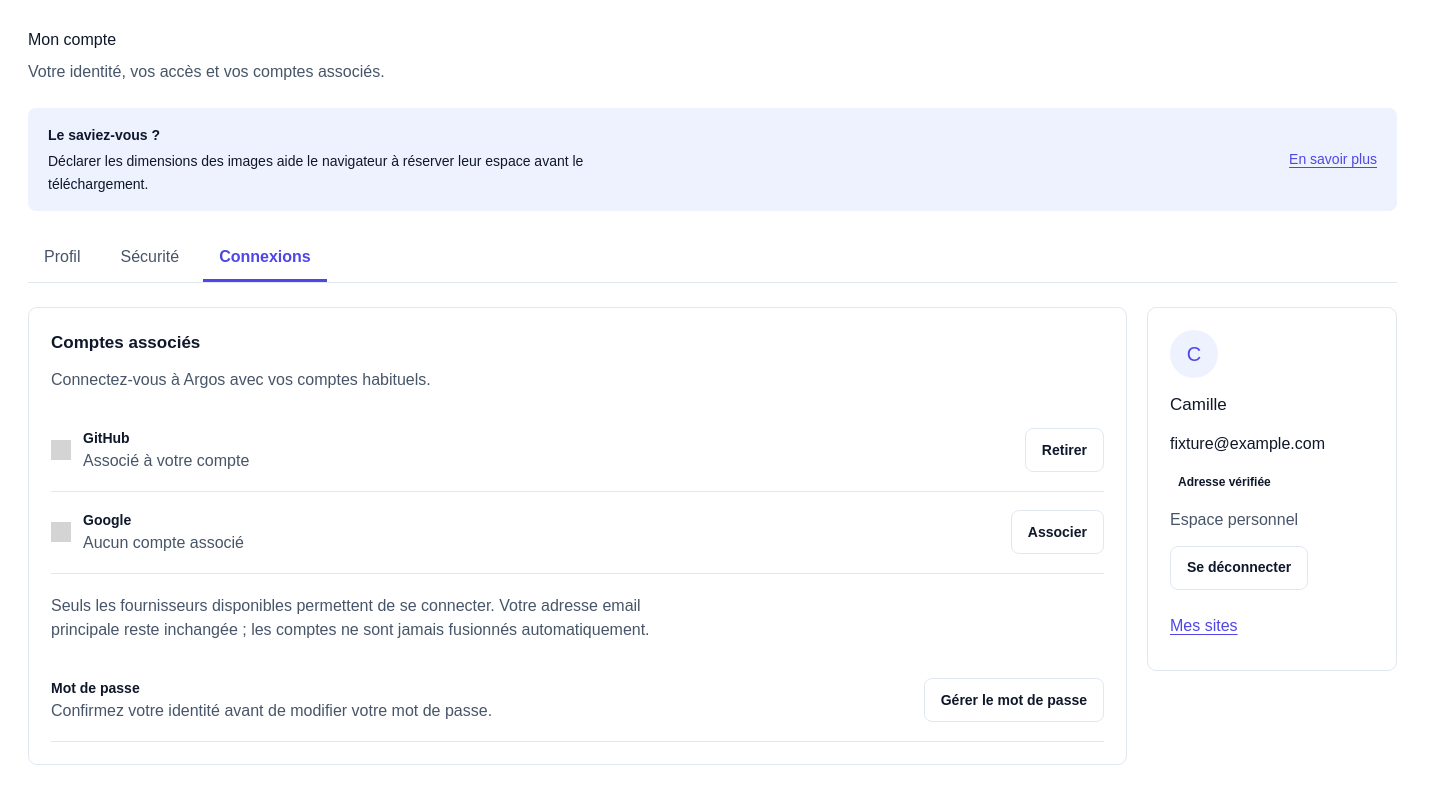
does not start linking when the identity proof is refused
The width and height of the screenshot is (1440, 810).
Click the button with aria-label "Associer Google": (1057, 532) [1011, 510, 1104, 554]
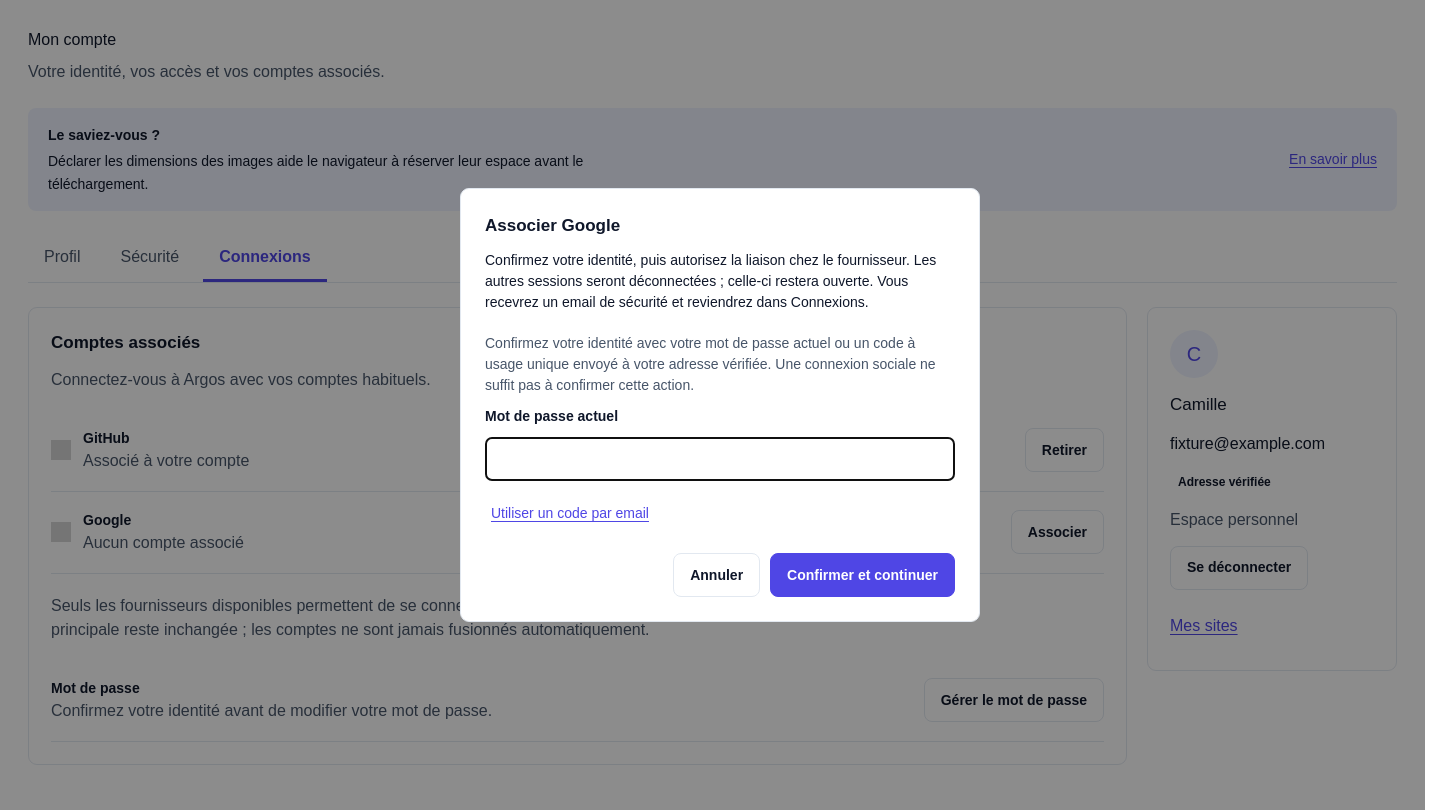
In the password field labelled "Mot de passe actuel": (720, 459) [485, 437, 955, 481], type "synthetic password"
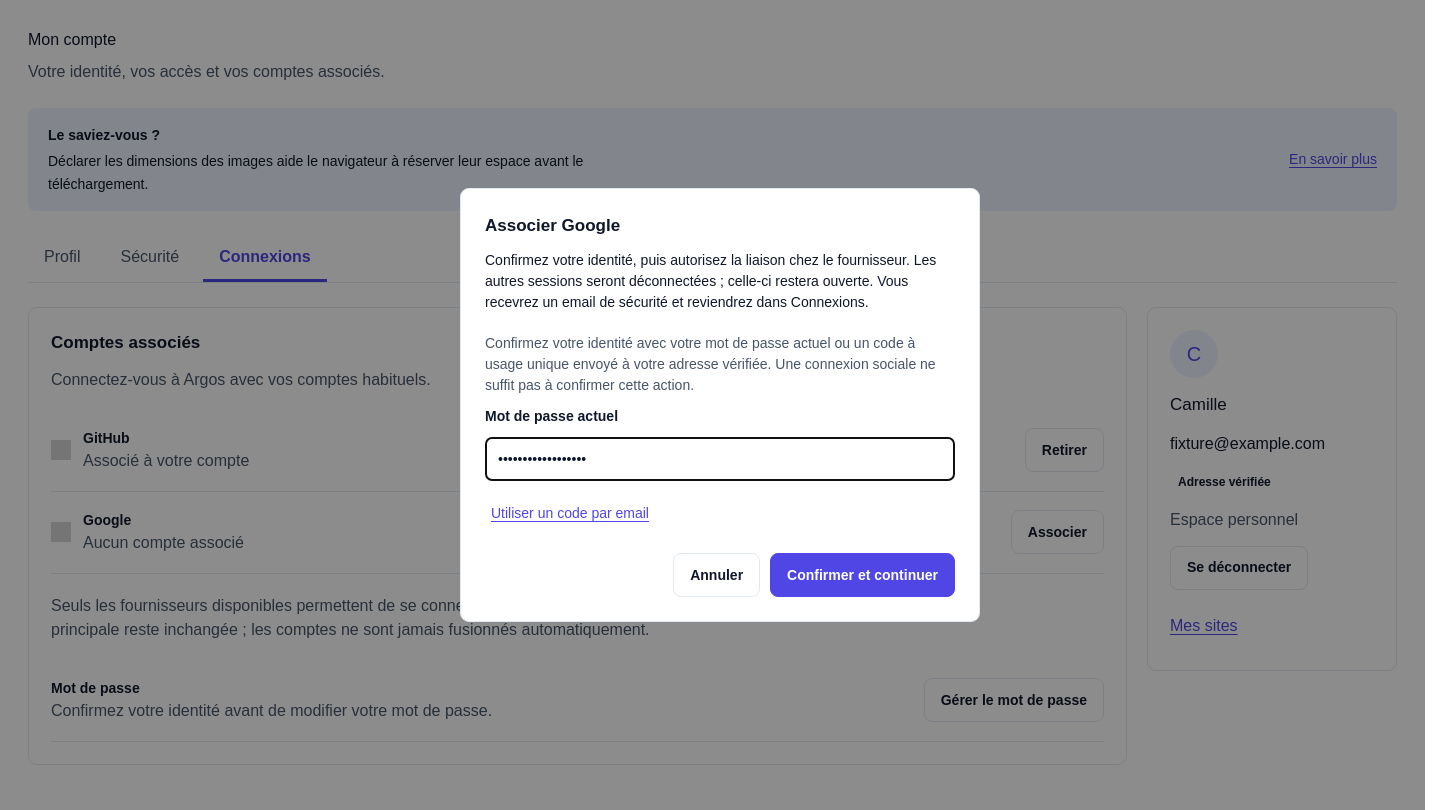
Submit the form named "Confirmer et continuer", box [485, 333, 955, 597]
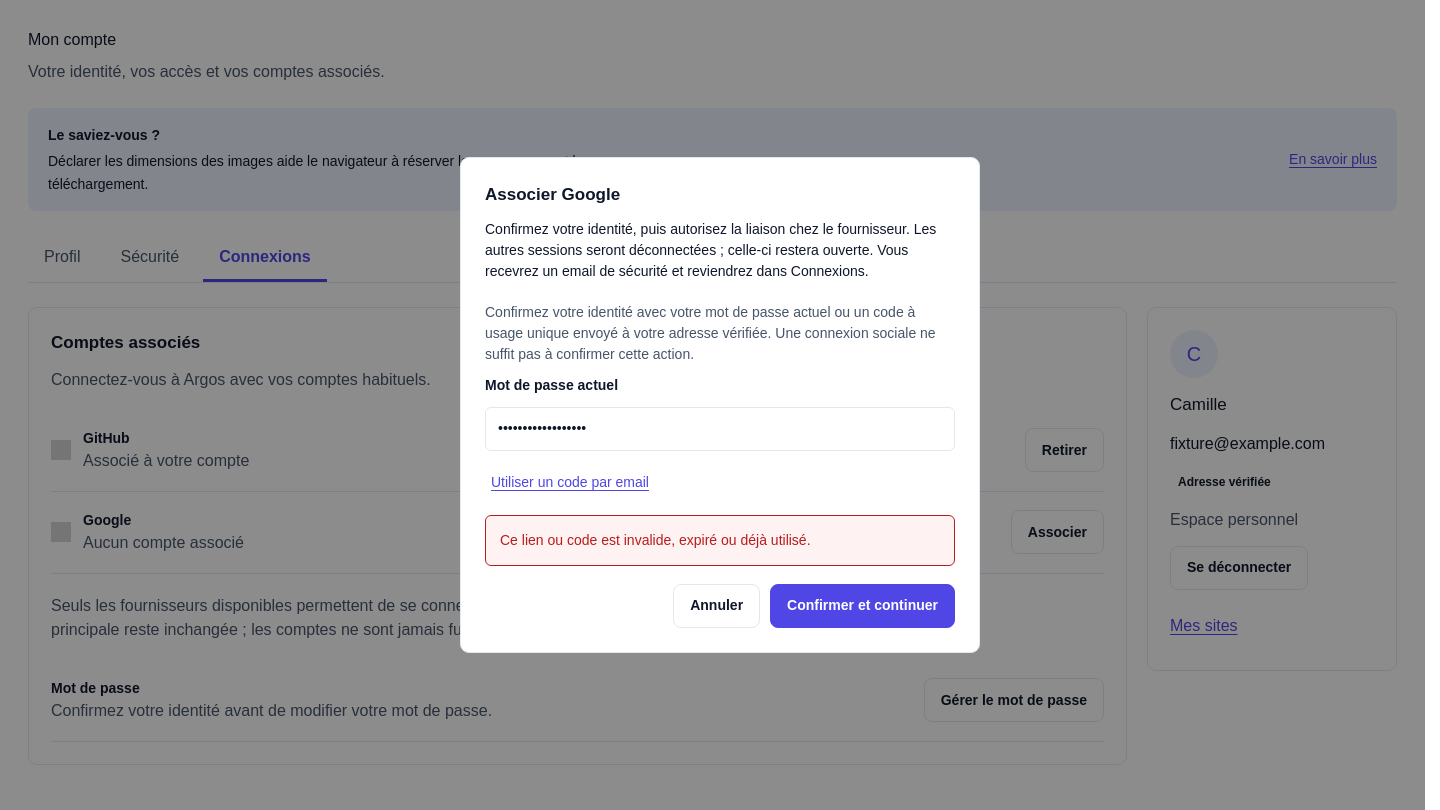
Check: the message shows "invalide", box [500, 532, 810, 548]
